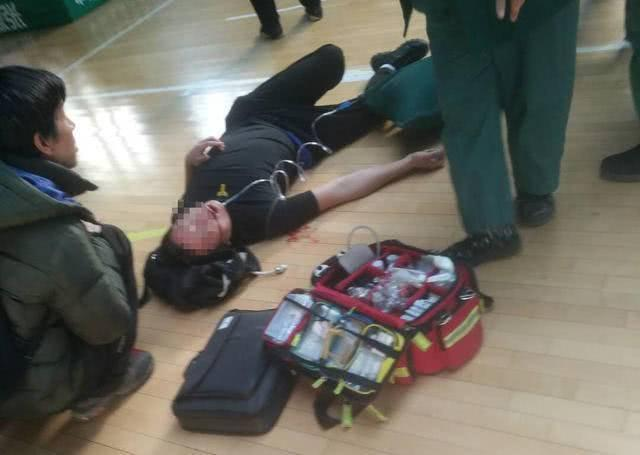Fall-Detected: (136, 28, 447, 323)
